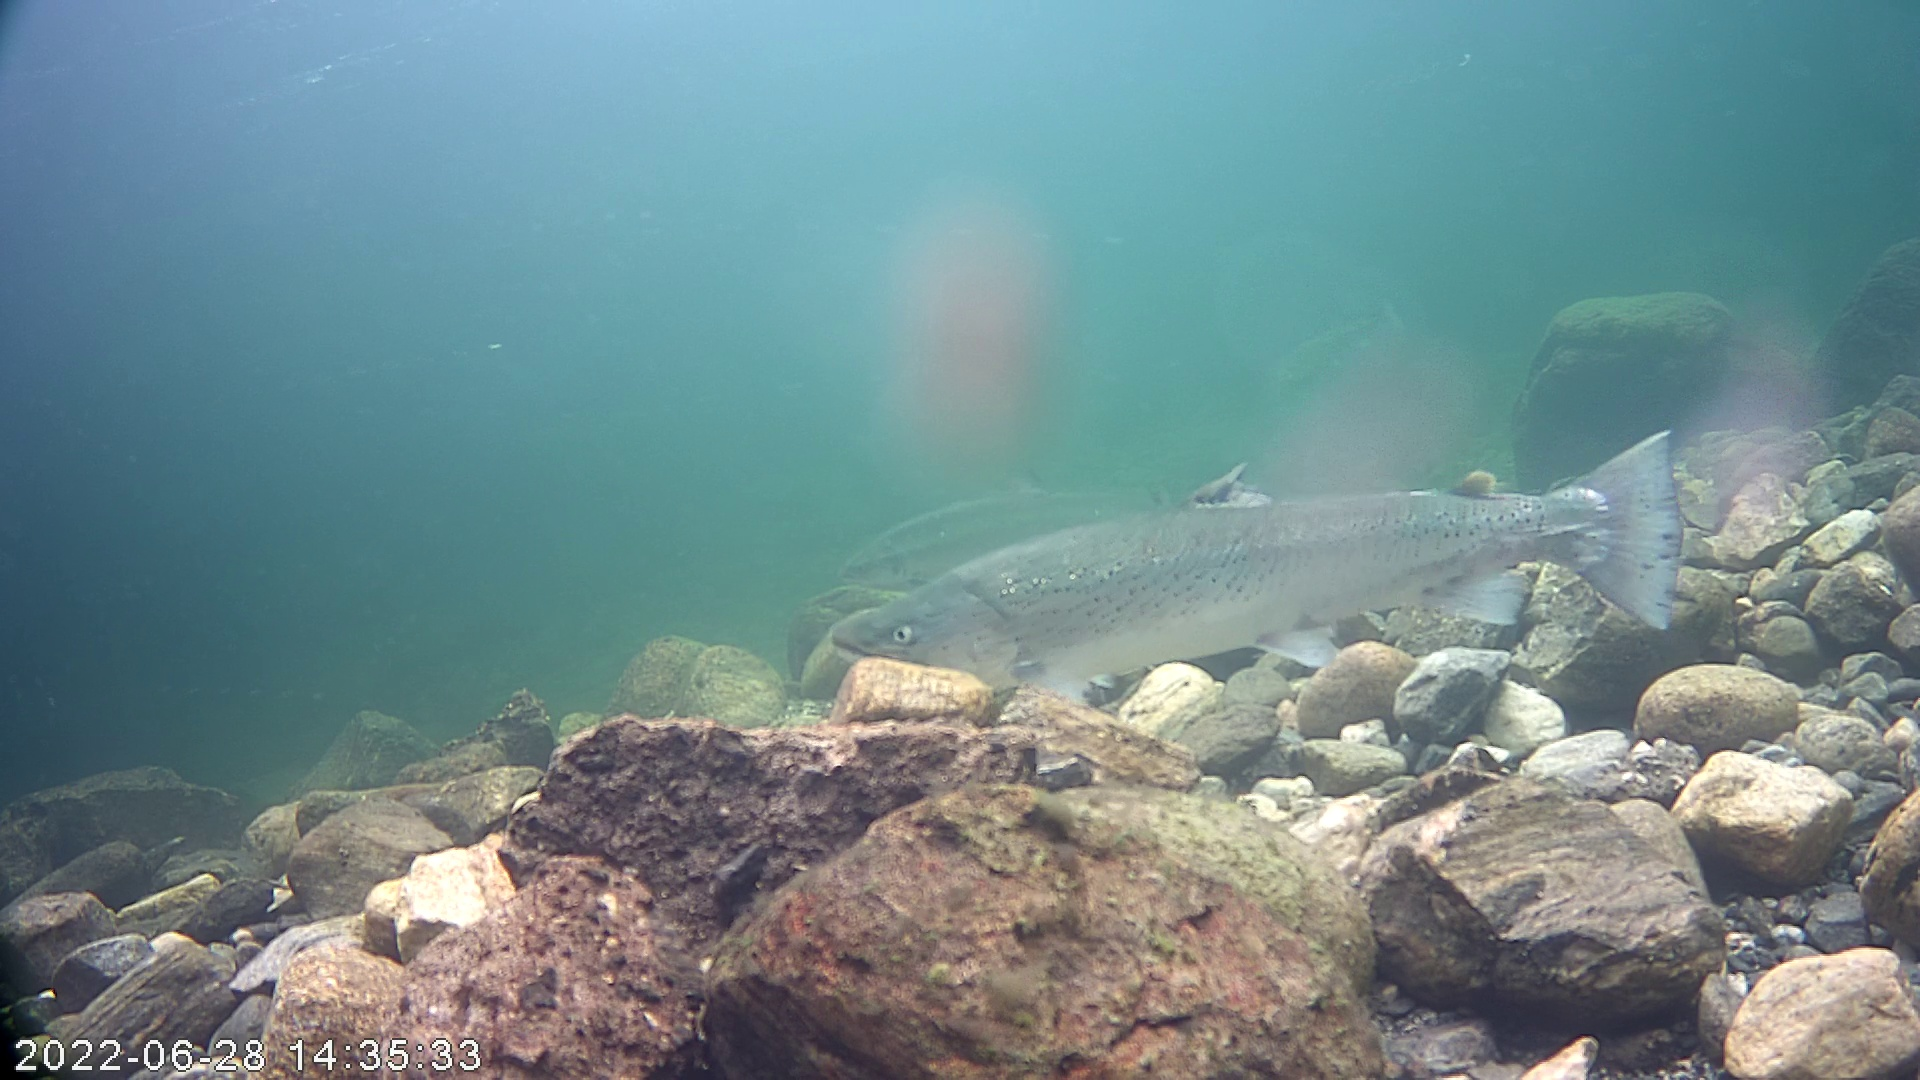salmon: (816, 327, 1724, 742)
